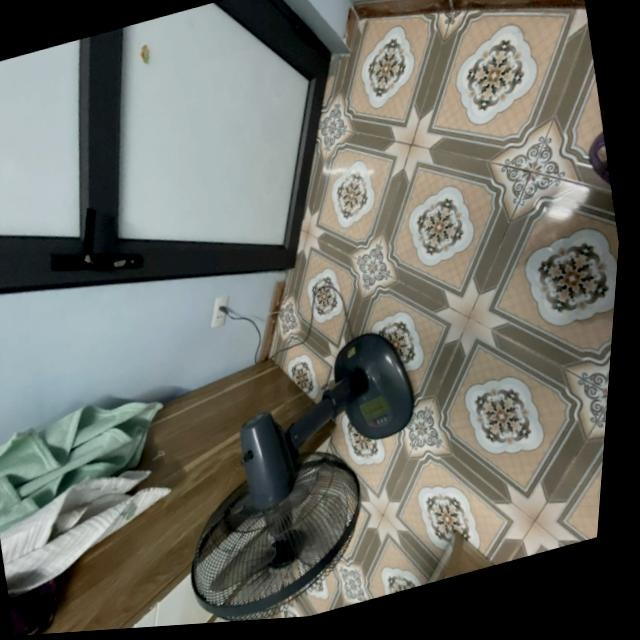outlet: (204, 292, 235, 328)
